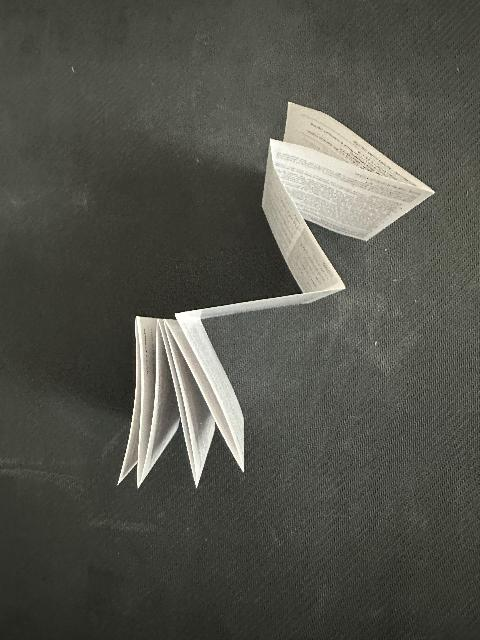Kagit: (106, 99, 437, 491)
